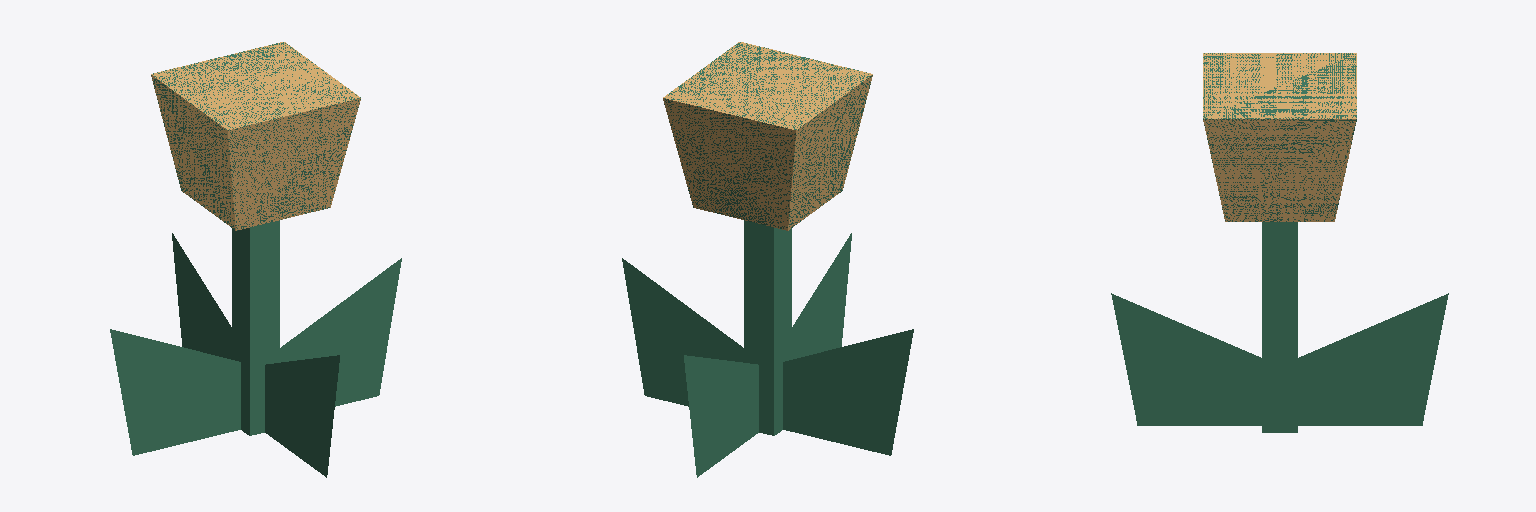
3 views of the same model, side by side, from view 1: azimuth 30°, elevation 25°; view 2: azimuth 150°, elevation 25°; view 3: azimuth 270°, elevation 25° (orthographic).
Visible parts, largest first — view 1: Mesh1 Flower_Tall_Yellow Model, Mesh5 Flower_Tall_Yellow Model, Mesh2 Flower_Tall_Yellow Model, Mesh4 Flower_Tall_Yellow Model, Mesh3 Flower_Tall_Yellow Model; view 2: Mesh1 Flower_Tall_Yellow Model, Mesh5 Flower_Tall_Yellow Model, Mesh2 Flower_Tall_Yellow Model, Mesh3 Flower_Tall_Yellow Model, Mesh4 Flower_Tall_Yellow Model; view 3: Mesh1 Flower_Tall_Yellow Model, Mesh3 Flower_Tall_Yellow Model, Mesh4 Flower_Tall_Yellow Model.
Part boxes in pixels (bbox=[...]): Mesh1 Flower_Tall_Yellow Model: bbox=[151, 42, 360, 435]; Mesh5 Flower_Tall_Yellow Model: bbox=[110, 329, 240, 455]; Mesh2 Flower_Tall_Yellow Model: bbox=[280, 258, 401, 406]; Mesh4 Flower_Tall_Yellow Model: bbox=[265, 355, 339, 477]; Mesh3 Flower_Tall_Yellow Model: bbox=[172, 233, 231, 359]; Mesh1 Flower_Tall_Yellow Model: bbox=[663, 42, 872, 435]; Mesh5 Flower_Tall_Yellow Model: bbox=[783, 329, 913, 455]; Mesh2 Flower_Tall_Yellow Model: bbox=[622, 258, 743, 406]; Mesh3 Flower_Tall_Yellow Model: bbox=[684, 355, 758, 477]; Mesh4 Flower_Tall_Yellow Model: bbox=[792, 233, 851, 359]; Mesh1 Flower_Tall_Yellow Model: bbox=[1203, 53, 1356, 432]; Mesh3 Flower_Tall_Yellow Model: bbox=[1298, 293, 1448, 425]; Mesh4 Flower_Tall_Yellow Model: bbox=[1111, 293, 1261, 425].
Bounding box in the file's own units: 0.8999 × 1 × 0.8999.